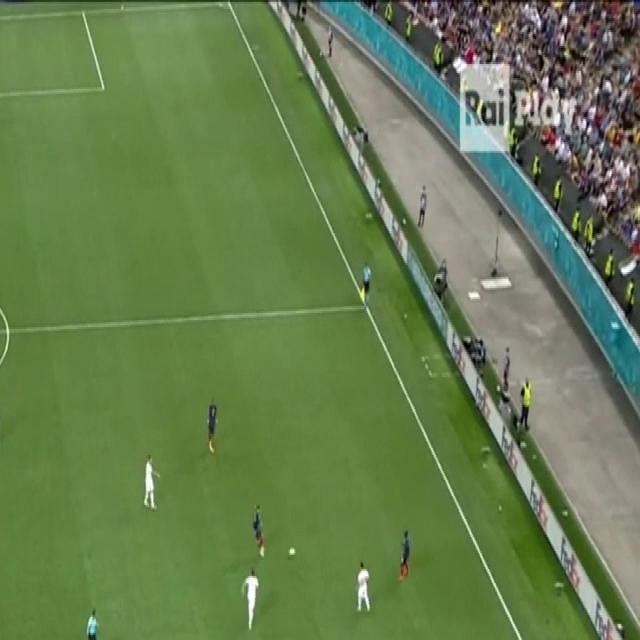ball: (286, 545, 298, 559), (494, 382, 502, 392), (402, 220, 407, 227), (319, 48, 323, 56)
player-white: (240, 566, 260, 635), (142, 452, 162, 513), (354, 556, 372, 616), (396, 528, 412, 588), (251, 501, 266, 563), (205, 394, 219, 456), (360, 259, 372, 305), (85, 604, 100, 640), (0, 389, 1, 450), (105, 638, 121, 640)
